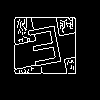E: (25, 25, 67, 76)
